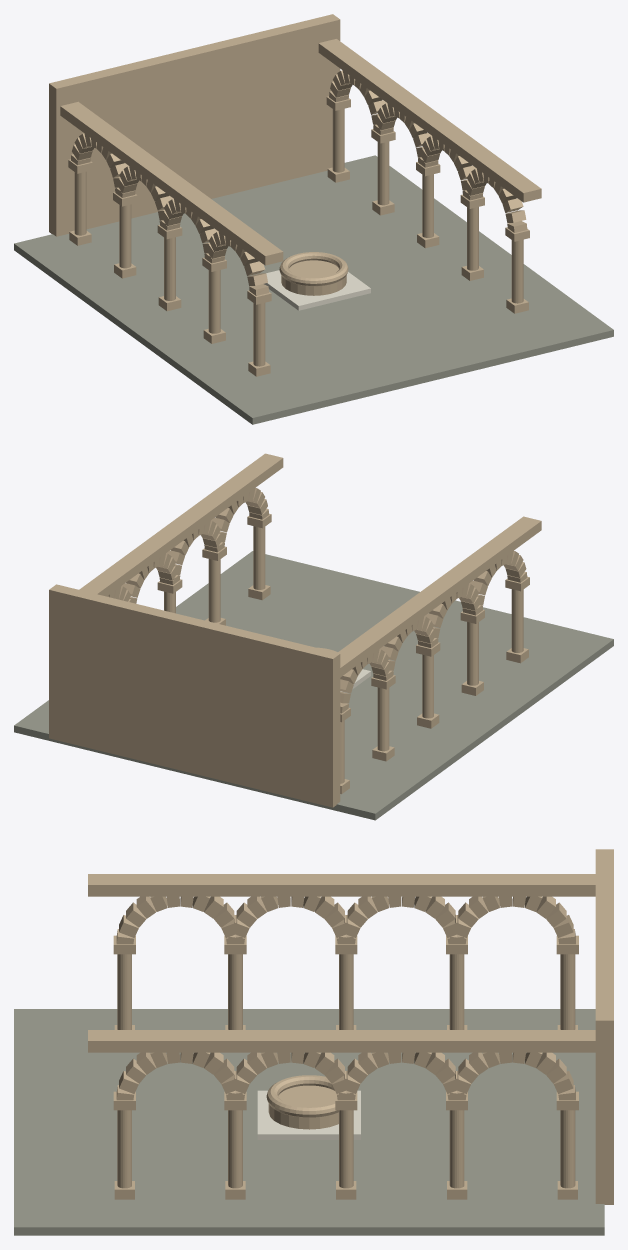
3 renders of one model, top to bottom at view 1: azimuth 30°, elevation 25°; view 2: azimuth 150°, elevation 25°; view 3: azimuth 270°, elevation 25°, orthographic. The views are drawn at different scales.
Visible parts, largest first — view 1: Courtyard floor, Rear wall, Arcade cornice.001, Arcade cornice, Renaissance plinth, Wellhead base, Wellhead rim, Arcade column, Arcade column.003, Arcade column.004, Arcade column.005, Arcade column.009 (+5 smaller); view 2: Rear wall, Courtyard floor, Arcade cornice, Arcade cornice.001, Arcade column.006, Arcade column.003, Arcade column, Arcade column.005, Arcade column.002, Arcade column.001; view 3: Courtyard floor, Arcade cornice, Arcade cornice.001, Rear wall, Wellhead base, Renaissance plinth, Wellhead rim, Arcade column.008, Arcade column.009, Arcade column.003, Arcade column.004, Arcade column.006 (+5 smaller).
Boxes of the visible parts, x1,y1,x2,y2 form: Courtyard floor: [14, 155, 613, 424]; Rear wall: [49, 14, 340, 236]; Arcade cornice.001: [318, 39, 541, 202]; Arcade cornice: [60, 101, 283, 265]; Renaissance plinth: [264, 270, 370, 310]; Wellhead base: [281, 260, 346, 295]; Wellhead rim: [279, 252, 348, 286]; Arcade column: [253, 302, 265, 366]; Arcade column.003: [119, 204, 131, 268]; Arcade column.004: [74, 171, 86, 235]; Arcade column.005: [511, 239, 523, 303]; Arcade column.009: [332, 108, 344, 172]; Rear wall: [49, 584, 340, 807]; Courtyard floor: [14, 551, 613, 820]; Arcade cornice: [337, 516, 541, 677]; Arcade cornice.001: [79, 453, 283, 596]; Arcade column.006: [208, 559, 220, 622]; Arcade column.003: [377, 687, 389, 751]; Arcade column: [511, 589, 523, 652]; Arcade column.005: [253, 526, 265, 589]; Arcade column.002: [422, 654, 433, 718]; Arcade column.001: [467, 622, 478, 685]; Courtyard floor: [14, 1009, 604, 1235]; Arcade cornice: [88, 874, 595, 896]; Arcade cornice.001: [88, 1030, 595, 1052]; Rear wall: [595, 849, 613, 1204]; Wellhead base: [268, 1085, 338, 1129]; Renaissance plinth: [257, 1090, 360, 1139]; Wellhead rim: [266, 1075, 338, 1117]; Arcade column.008: [449, 1110, 464, 1188]; Arcade column.009: [560, 1110, 575, 1188]; Arcade column.003: [449, 954, 464, 1029]; Arcade column.004: [560, 954, 575, 1029]; Arcade column.006: [228, 1110, 242, 1188].
Bounding box in the file's own units: 14 × 5.73 × 16.25.
